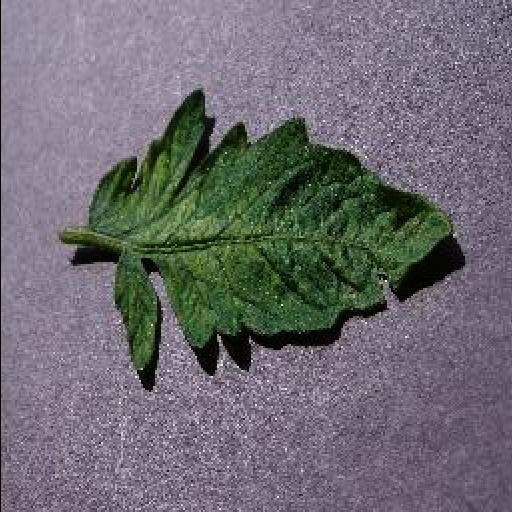Mosaic Virus: (86, 82, 460, 378)
